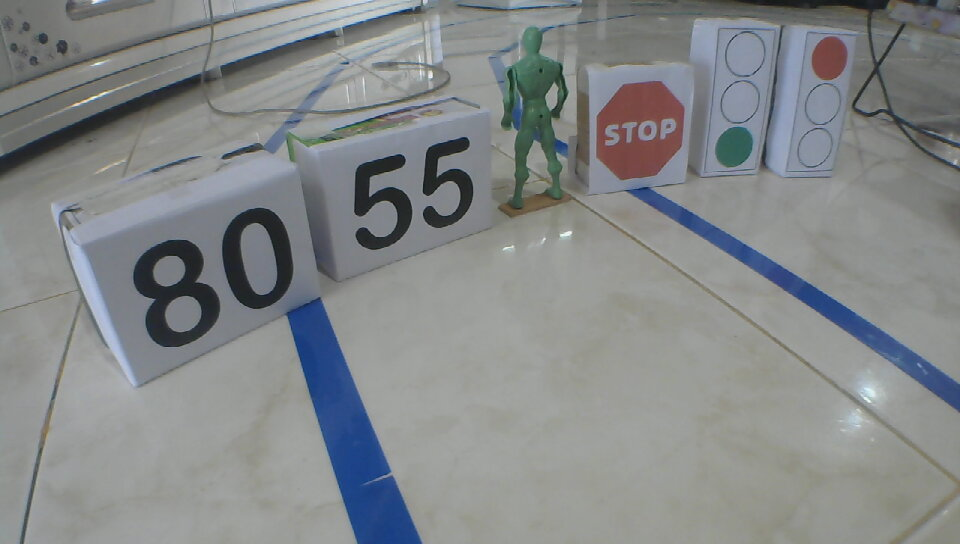Green Light: (710, 28, 768, 169)
Person: (494, 25, 570, 211)
Red Light: (796, 34, 845, 170)
Speed 55: (352, 136, 475, 252)
Speed 80: (133, 205, 298, 352)
Stop: (594, 79, 687, 182)
